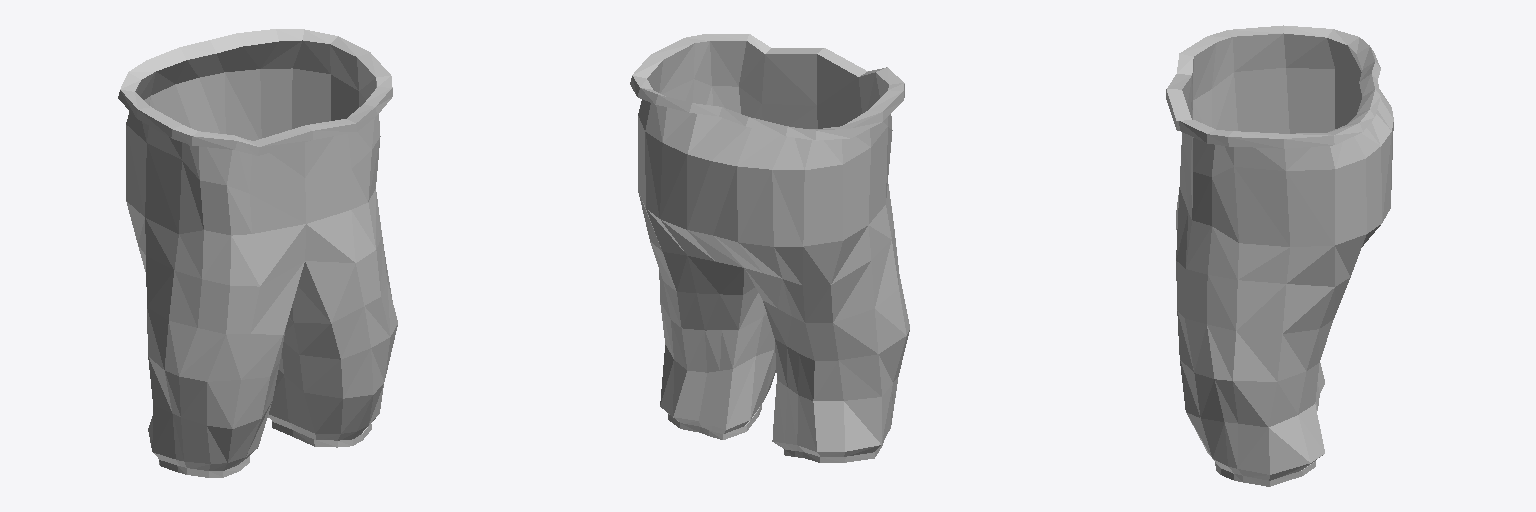
The model's file is Texture_Ready_Cartoon_Pants.obj.
3 views of the same model, side by side, from view 1: azimuth 30°, elevation 25°; view 2: azimuth 150°, elevation 25°; view 3: azimuth 270°, elevation 25° (orthographic).
Parts seen in each view (by area): view 1: pants; view 2: pants; view 3: pants.
Part boxes in pixels (bbox=[...]): pants: bbox=[118, 29, 397, 477]; pants: bbox=[630, 34, 909, 462]; pants: bbox=[1166, 25, 1393, 486].
Size of the model in its own units: 2.41 by 3.59 by 2.03.